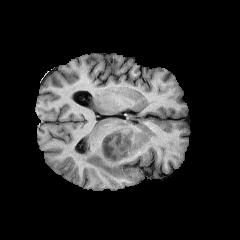glioma: (79, 116, 140, 179)
